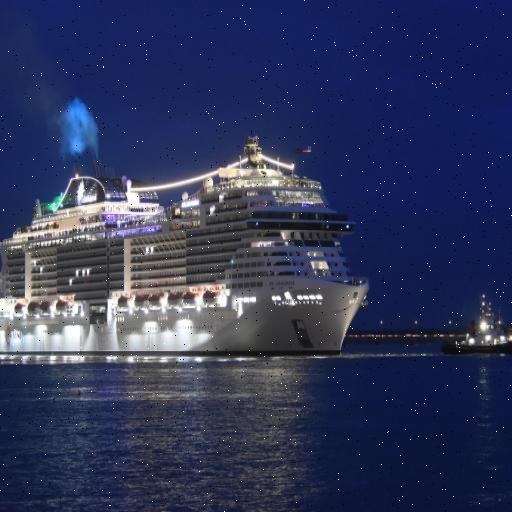cruises: (1, 137, 370, 366)
